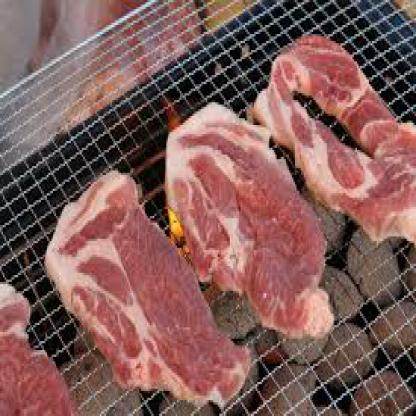pork: (53, 180, 240, 414), (168, 116, 334, 348), (264, 34, 414, 246)
